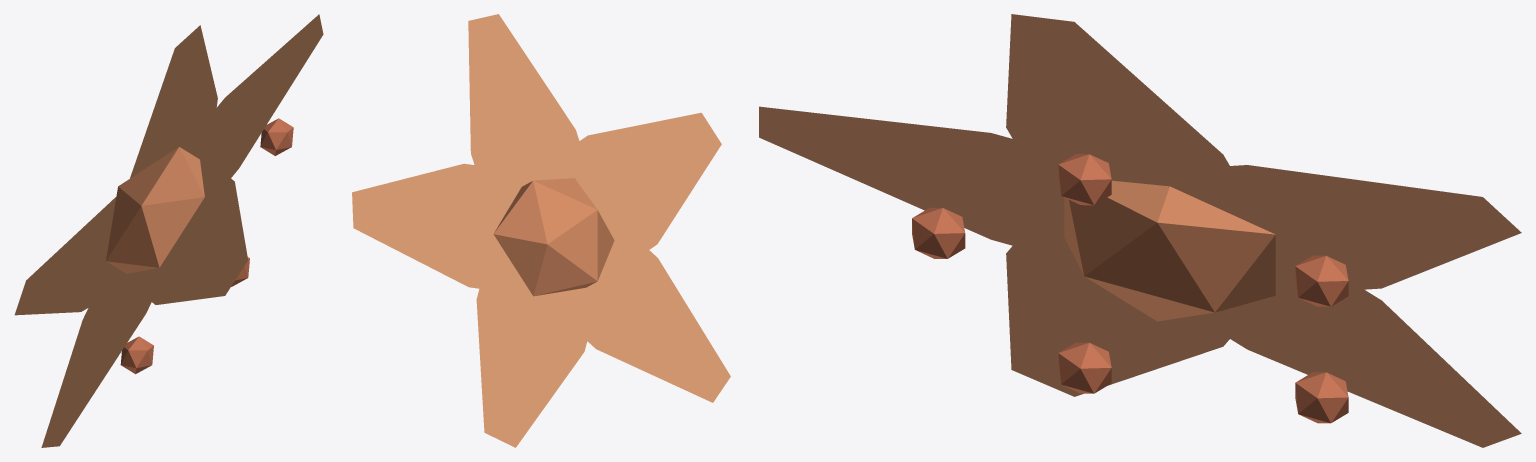
The picture shows the model from 3 angles, left to right: view 1: azimuth 30°, elevation 25°; view 2: azimuth 150°, elevation 25°; view 3: azimuth 270°, elevation 25°; orthographic projection. The views are drawn at different scales.
Parts seen in each view (by area): view 1: part0, part5, part1, part2, part4, part3, part7, part10; view 2: part5, part4, part2, part3, part1, part0; view 3: part5, part4, part3, part0, part1, part2, part7, part8, part9, part10, part6.
Boxes of the visible parts, x1,y1,x2,y2 form: part0: (106, 147, 204, 273); part5: (151, 14, 323, 274); part1: (115, 178, 247, 304); part2: (41, 243, 178, 447); part4: (130, 25, 217, 195); part3: (14, 147, 200, 315); part7: (120, 336, 153, 374); part10: (260, 118, 293, 155); part5: (468, 14, 614, 261); part4: (352, 163, 580, 302); part2: (503, 173, 730, 402); part3: (476, 186, 610, 447); part1: (500, 112, 721, 277); part0: (493, 178, 614, 296); part5: (1006, 14, 1293, 275); part4: (1110, 165, 1521, 289); part3: (1063, 201, 1521, 447); part0: (1064, 180, 1275, 321); part1: (759, 106, 1067, 252); part2: (1006, 191, 1239, 396); part7: (1058, 342, 1111, 393); part8: (1295, 372, 1348, 423); part9: (1295, 255, 1348, 306); part10: (1058, 154, 1111, 205); part6: (912, 207, 965, 258).
Bounding box in the file's own units: 7.23 × 8.86 × 10.28.
